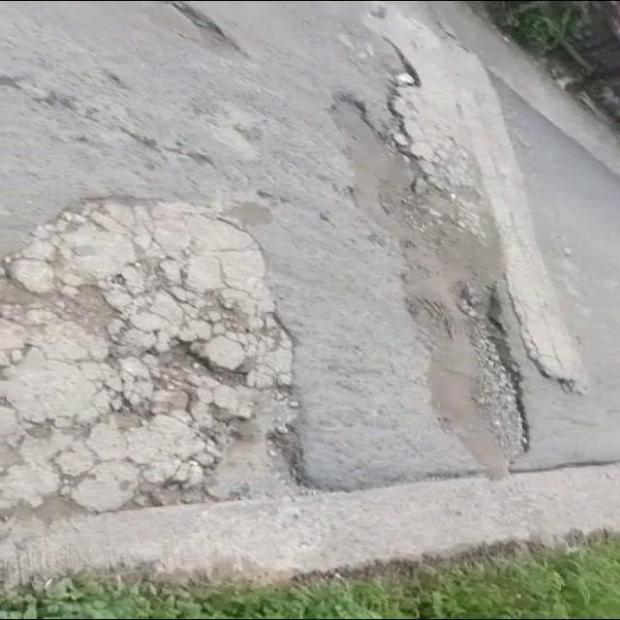lubang: (0, 201, 296, 512), (330, 93, 528, 475), (146, 3, 248, 59), (386, 38, 420, 117)
